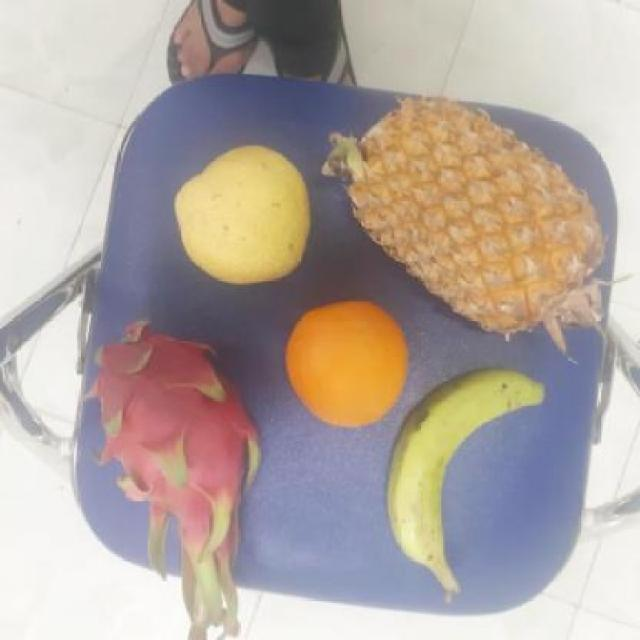banana: (391, 366, 534, 585)
dragon fruit: (80, 329, 268, 572)
oren: (283, 303, 412, 429)
pear: (172, 149, 316, 289)
pineapple: (334, 98, 617, 340)
